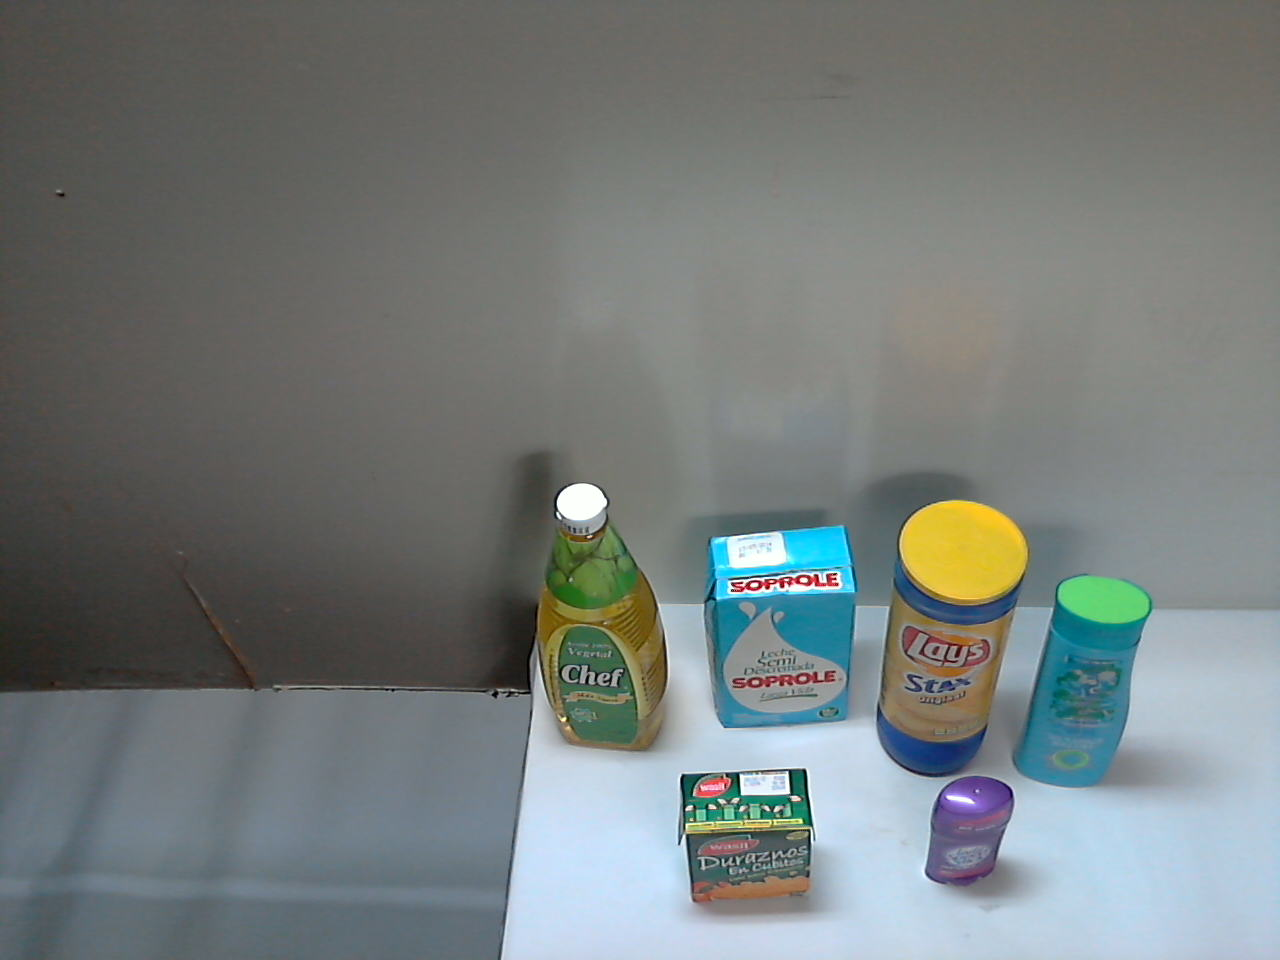aceite: (638, 392, 770, 675)
balsamo: (511, 491, 642, 709)
cloro: (764, 478, 939, 736)
confort: (932, 448, 1248, 825)
desodorante: (846, 719, 941, 859)
lata: (583, 659, 699, 831)
